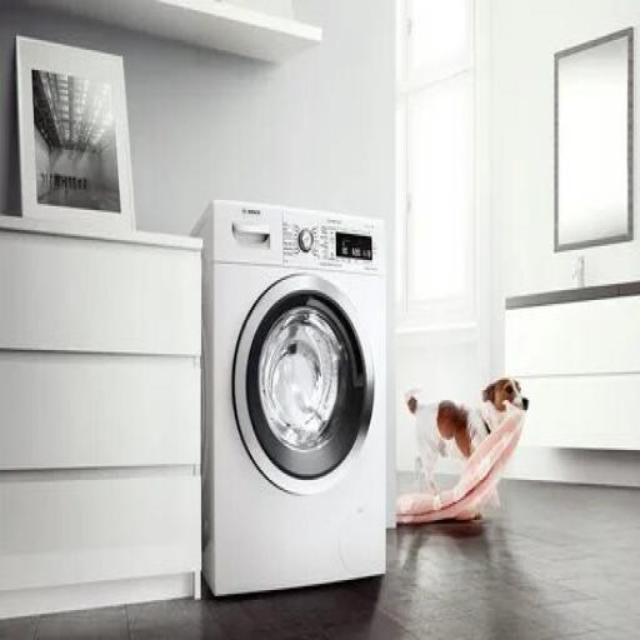Washing-Machine: (193, 197, 385, 577)
